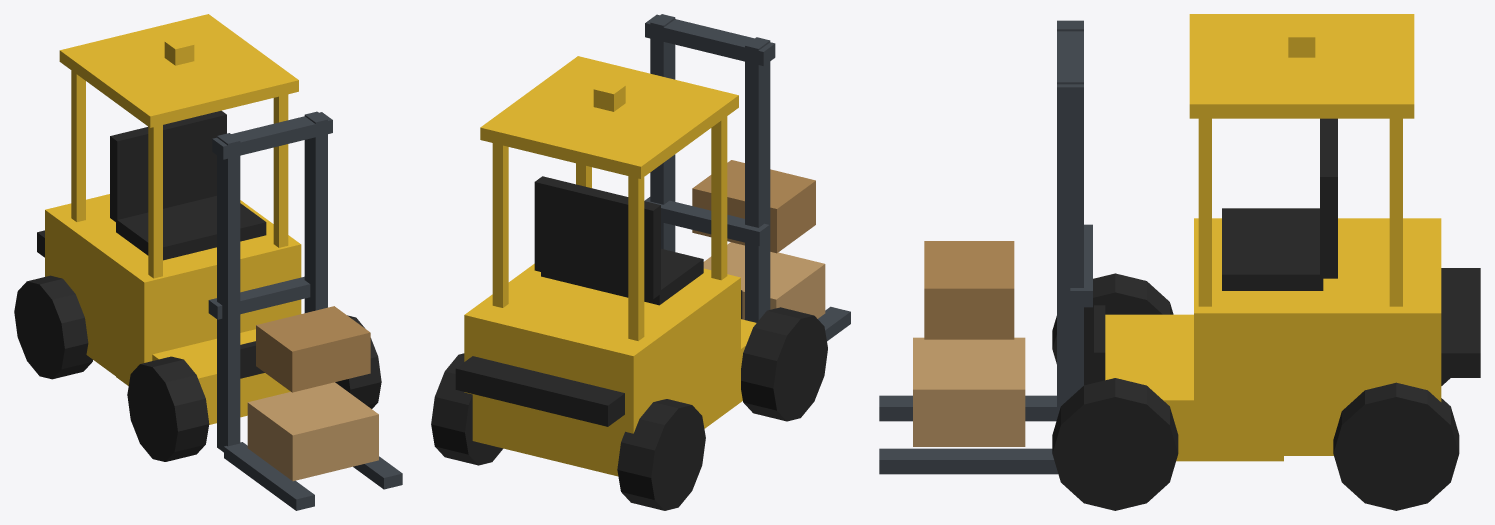
Rendered from welt_stapler_lebendig.glb.
The picture shows the model from 3 angles, left to right: view 1: azimuth 30°, elevation 25°; view 2: azimuth 150°, elevation 25°; view 3: azimuth 270°, elevation 25°; orthographic projection. The views are drawn at different scales.
Visible parts, largest first — view 1: welt_stapler_lebendig; view 2: welt_stapler_lebendig; view 3: welt_stapler_lebendig.
Boxes of the visible parts, x1=… form: welt_stapler_lebendig: x1=14, y1=14, x2=402, y2=510; welt_stapler_lebendig: x1=431, y1=14, x2=850, y2=510; welt_stapler_lebendig: x1=879, y1=14, x2=1480, y2=510.
Bounding box in the file's own units: 1.3 × 2.05 × 2.68.
